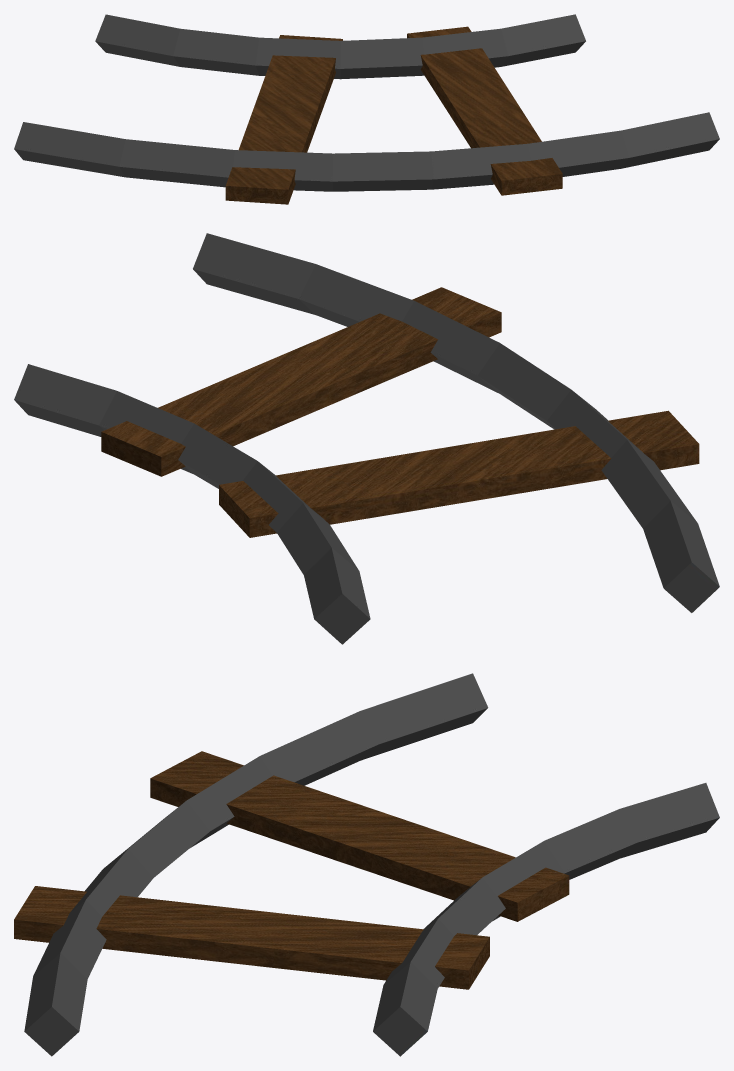
File: RailBent.fbx
The picture shows the model from 3 angles, top to bottom: view 1: azimuth 30°, elevation 25°; view 2: azimuth 150°, elevation 25°; view 3: azimuth 270°, elevation 25°; orthographic projection. The views are drawn at different scales.
Parts seen in each view (by area): view 1: RailBent_Baked; view 2: RailBent_Baked; view 3: RailBent_Baked.
Part boxes in pixels (box(x1,y1,x2,y2)): RailBent_Baked: box(14, 14, 719, 204); RailBent_Baked: box(14, 233, 719, 644); RailBent_Baked: box(14, 673, 719, 1056).
Size of the model in its own units: 1246 by 84.45 by 1083.
Materials: 1 (1 with a texture image).
